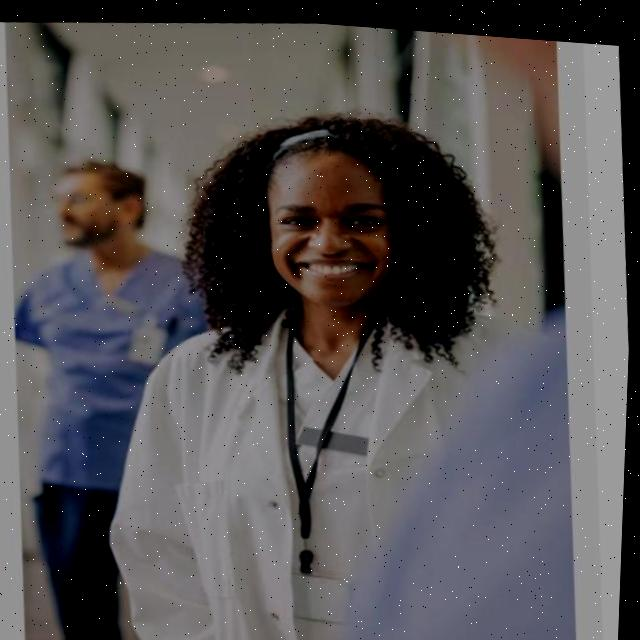id_card: (265, 315, 375, 630)
